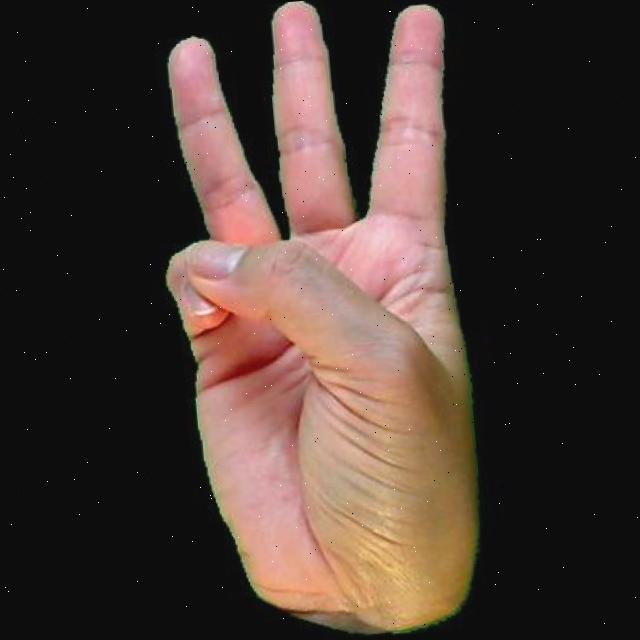w: (123, 0, 512, 640)
